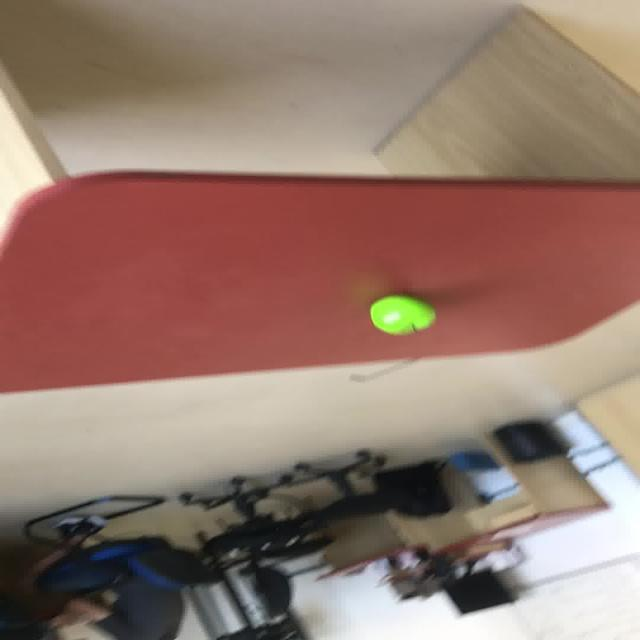apple: (368, 294, 436, 335)
